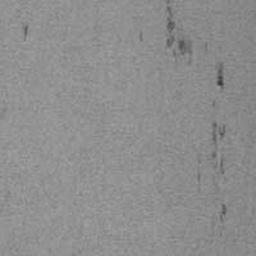Inclusion: (166, 0, 193, 67), (211, 123, 227, 177), (216, 63, 224, 90), (197, 156, 202, 196), (22, 24, 31, 42), (220, 204, 228, 223), (137, 31, 145, 42)
